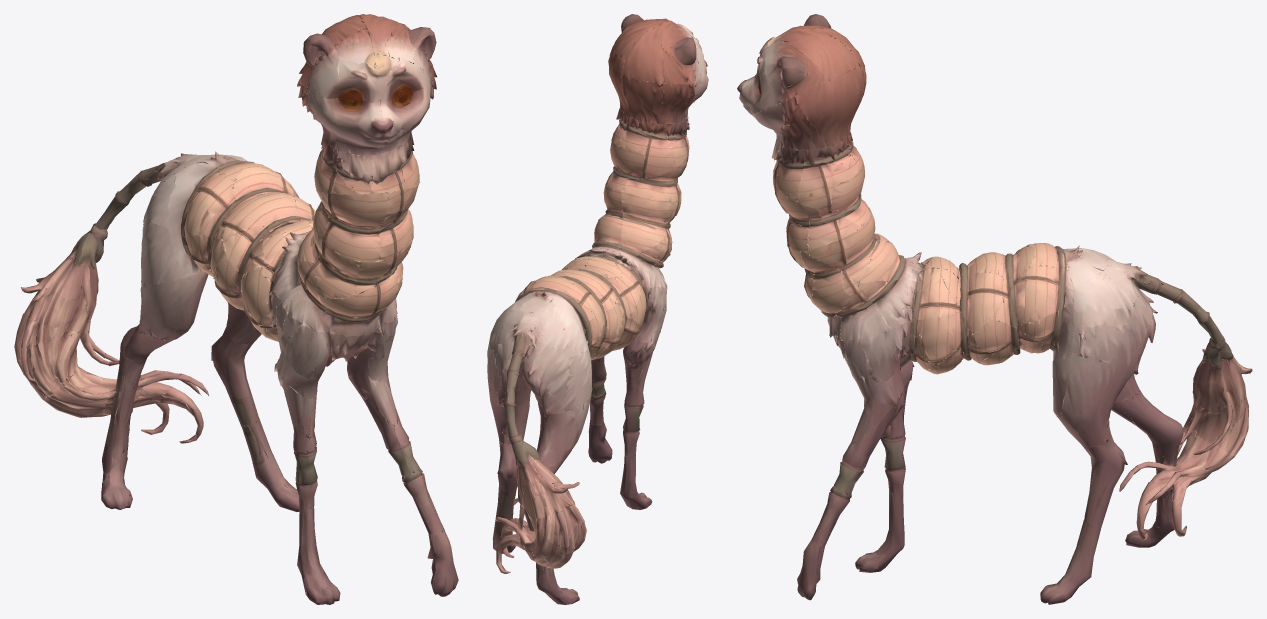
The picture shows the model from 3 angles, left to right: view 1: azimuth 30°, elevation 25°; view 2: azimuth 150°, elevation 25°; view 3: azimuth 270°, elevation 25°; orthographic projection. The views are drawn at different scales.
Parts seen in each view (by area): view 1: Mesh_0; view 2: Mesh_0; view 3: Mesh_0.
Part boxes in pixels (box(x1,y1,x2,y2)): Mesh_0: box(14, 14, 458, 604); Mesh_0: box(487, 14, 708, 604); Mesh_0: box(737, 14, 1252, 604).
Bounding box in the file's own units: 0.7166 × 1.9 × 1.64.
1 material, 1 textured.
